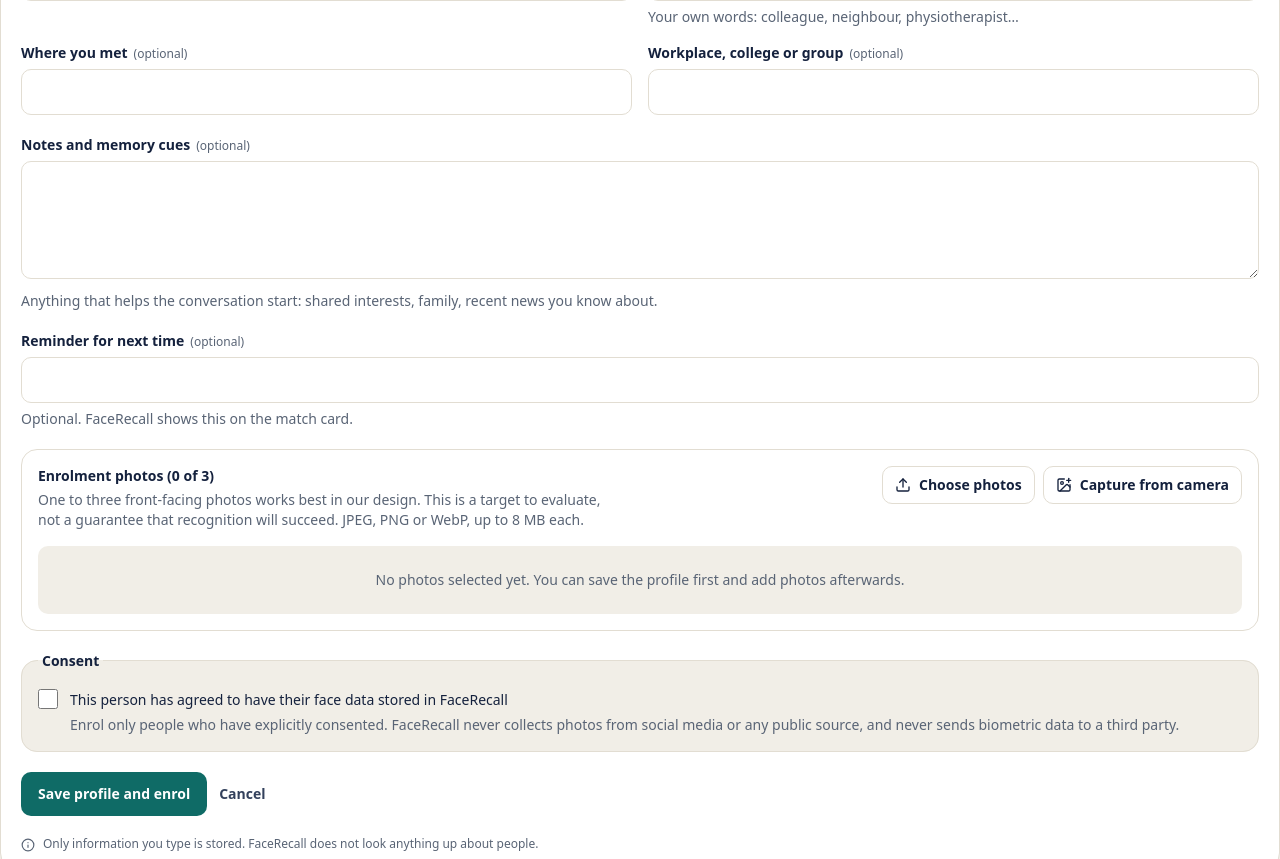
Test: PersonNewPage › requires a name
(page scrolled)
Click the button "Save profile and enrol" at (114, 794), box [21,772,207,816]
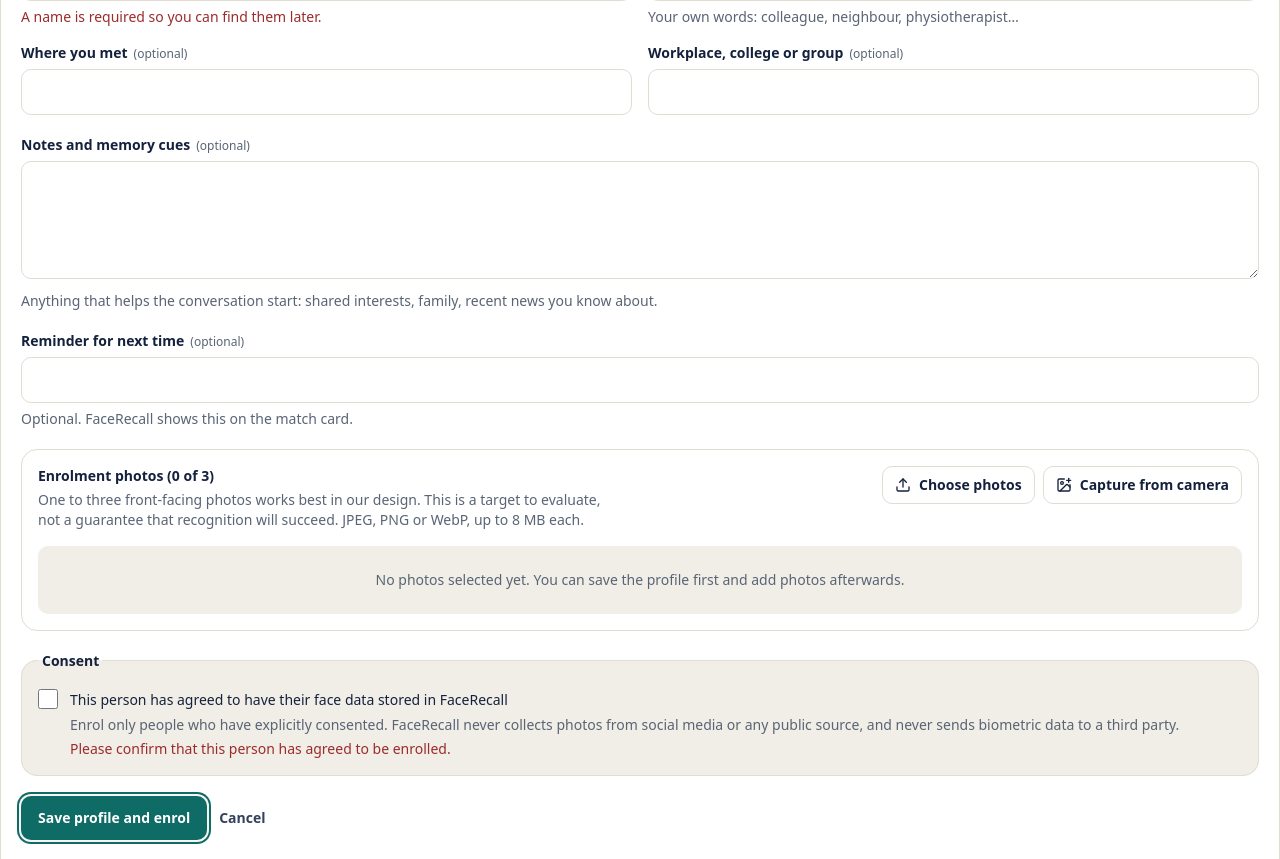
Expected: the text "A name is required so you can find them later." is shown, [21,6,322,26]
